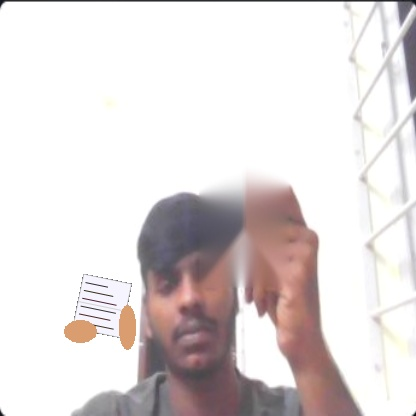cheat_chit: (72, 274, 132, 338)
